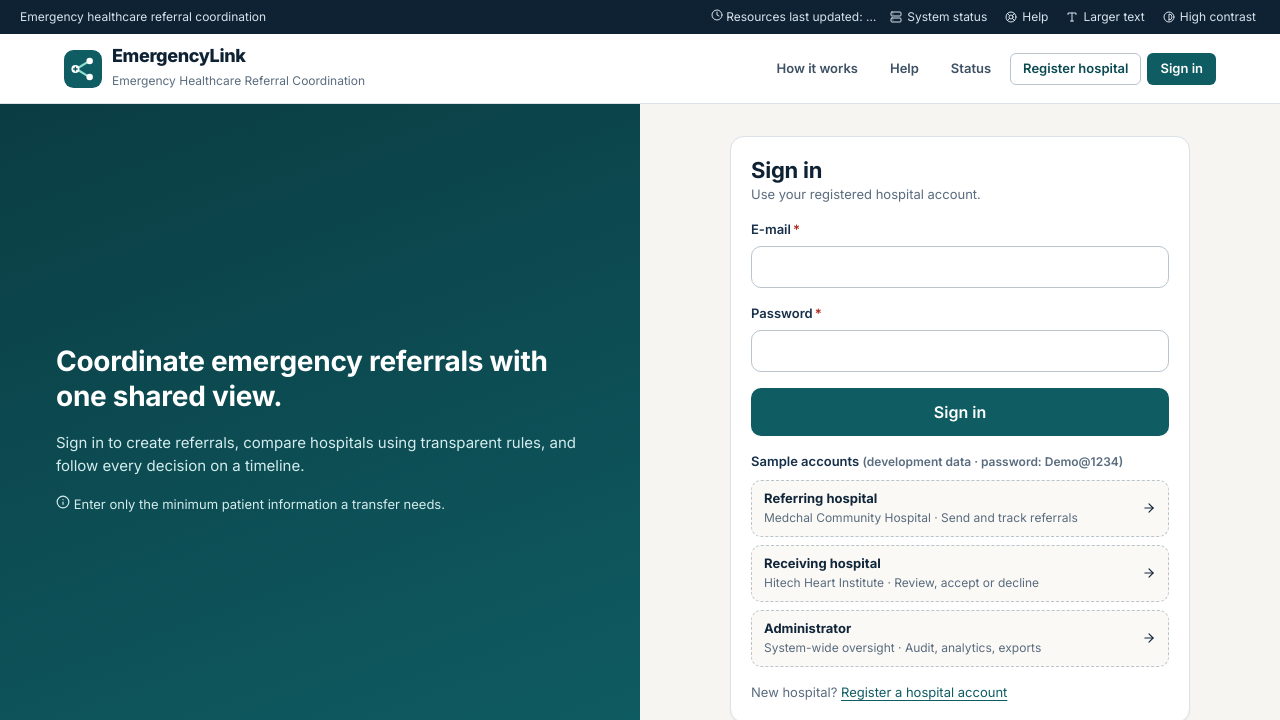
Test case: public pages › renders login and validates empty submit
Expected: the heading "Sign in" is shown, [751,157,822,183]
Click the button "Sign in": x=960, y=412 [751,388,1169,436]
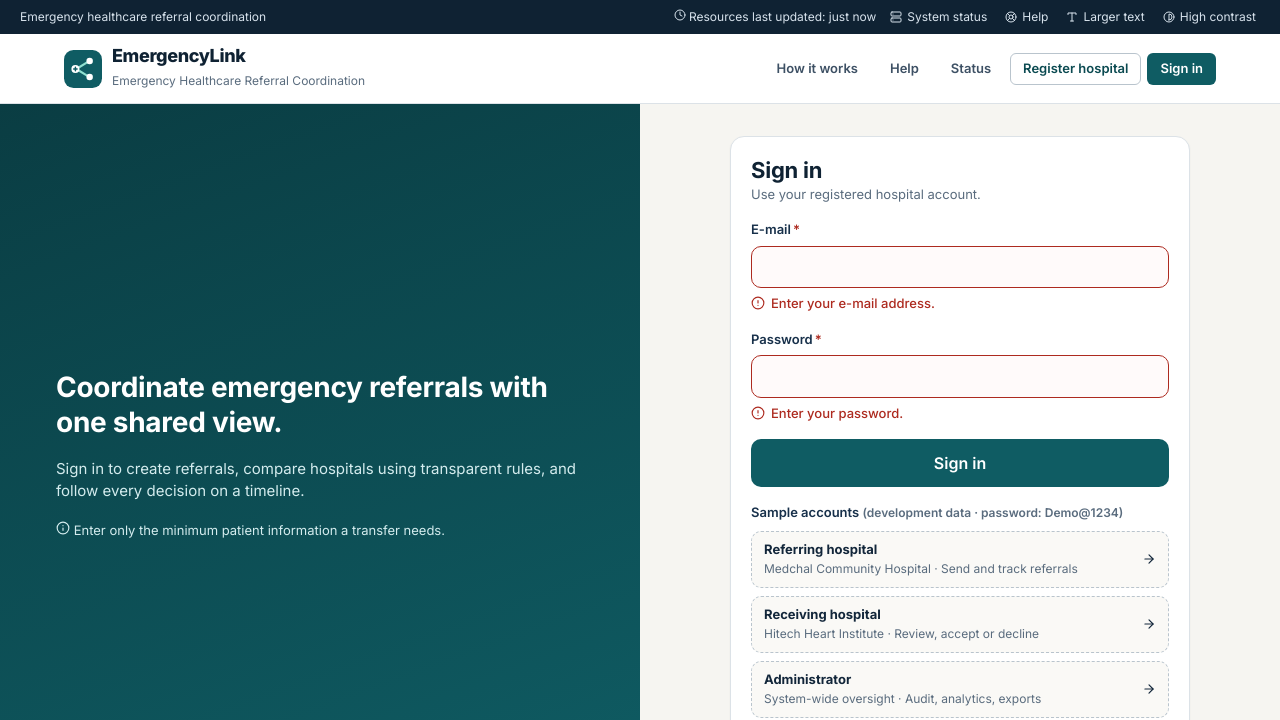
Now the text "Enter your e-mail address." is shown, box [751,295,935,311]
